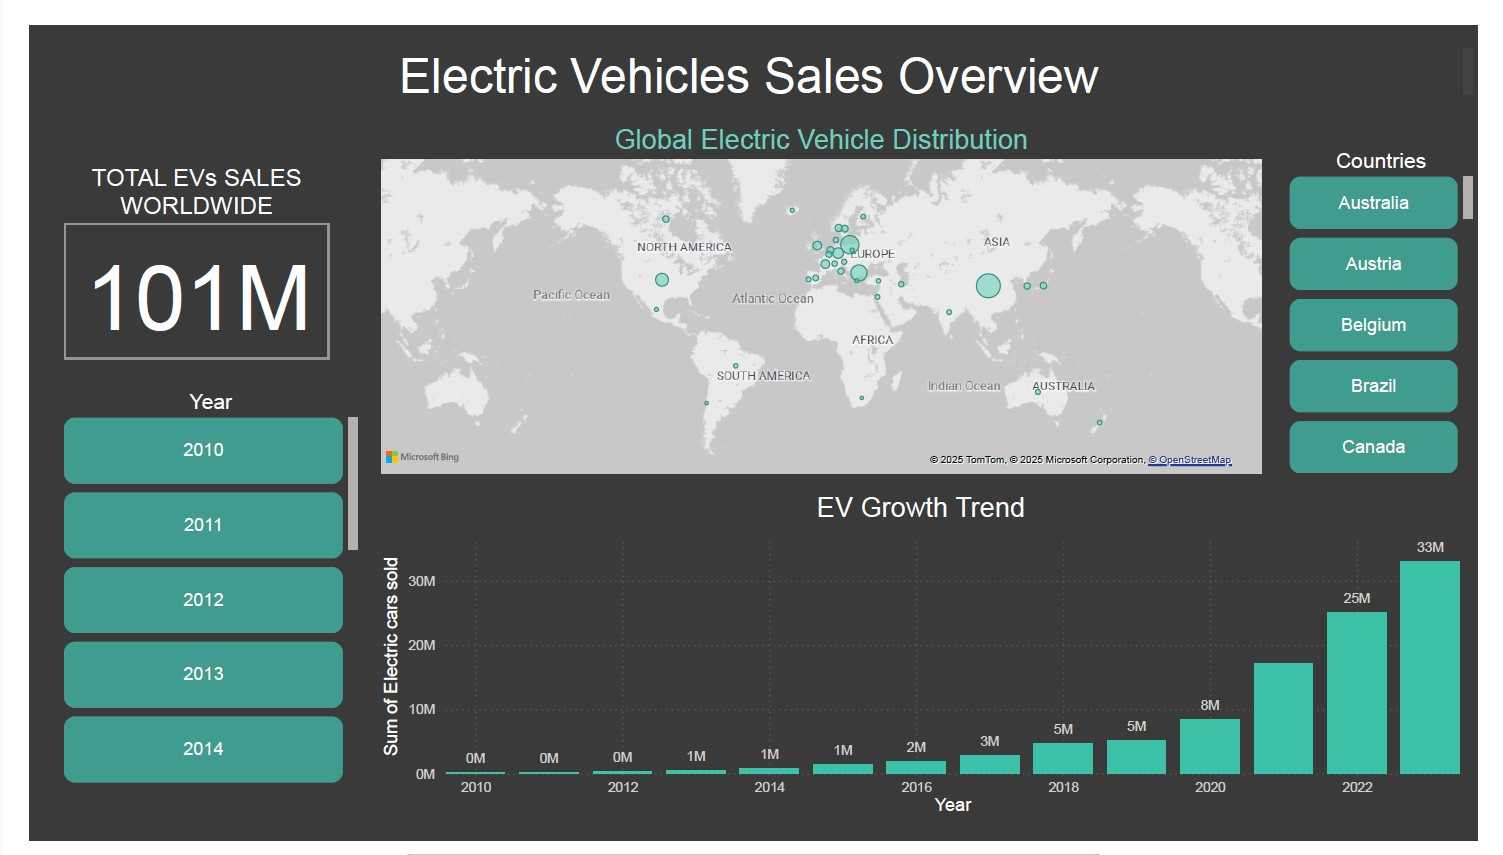

Layout of this report page (visuals, bound fields, positions):
{"tool":"powerbi","page":{"name":"Page 1","canvas":[1280,720],"ordinal":0},"visuals":[{"type":"cardVisual","title":"TOTAL EVs SALES WORLDWIDE","fields":{"Data":["Sum(electric-car-sales.Electric cars sold)"]},"box":[25.7,122.9,268.6,184.3],"z":0},{"type":"clusteredColumnChart","title":"EV Growth Trend","fields":{"Category":["electric-car-sales.Year"],"Y":["Sum(electric-car-sales.Electric cars sold)"]},"box":[306.5,413.4,973.6,289.8],"z":1000},{"type":"map","title":"Global Electric Vehicle Distribution","fields":{"Category":["electric-car-sales.Entity"],"Size":["Sum(electric-car-sales.Electric cars sold)"]},"box":[305.7,87.1,788.6,314.3],"z":2000},{"type":"textbox","box":[0,16,1280,54],"z":3000},{"type":"advancedSlicerVisual","title":"Year","fields":{"Values":["electric-car-sales.Year"]},"box":[25.8,322,269.2,354.2],"z":4000},{"type":"advancedSlicerVisual","title":"Countries","fields":{"Values":["electric-car-sales.Entity"]},"box":[1108.6,108.6,171.4,292.9],"z":5000}]}

Visuals, with their boxes in screenshot pixels (x1, y1, x2, y2), scaled from the page's 1280x720 canvas onto the 1503x855 screenshot:
"TOTAL EVs SALES WORLDWIDE" cardVisual: (left=30, top=146, right=346, bottom=365)
"EV Growth Trend" clusteredColumnChart: (left=360, top=491, right=1502, bottom=835)
"Global Electric Vehicle Distribution" map: (left=359, top=103, right=1285, bottom=477)
textbox: (left=0, top=19, right=1502, bottom=83)
"Year" advancedSlicerVisual: (left=30, top=382, right=346, bottom=803)
"Countries" advancedSlicerVisual: (left=1302, top=129, right=1502, bottom=477)
